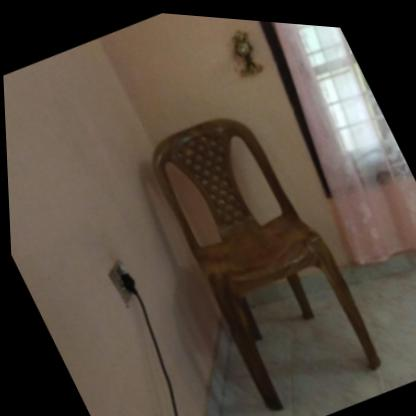Chair: (134, 88, 388, 416)
